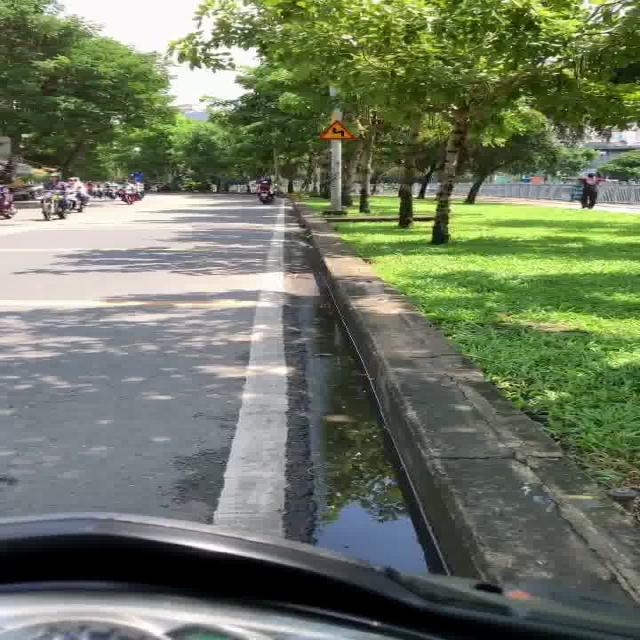Bien bao nhieu cho ngoat nguy hiem lien tiep: (312, 113, 360, 142)
